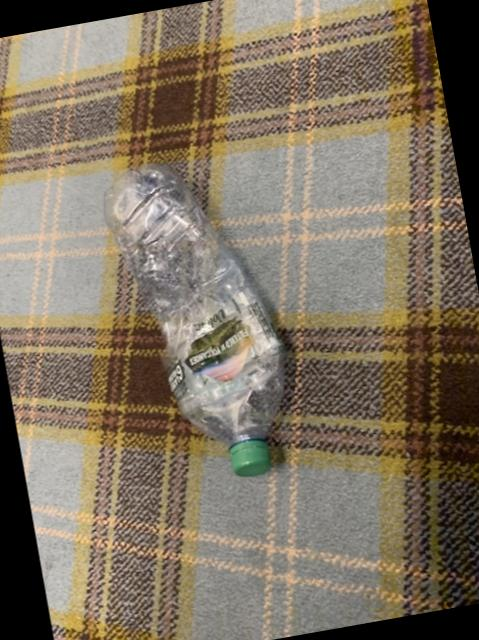plastic: (102, 162, 281, 475)
